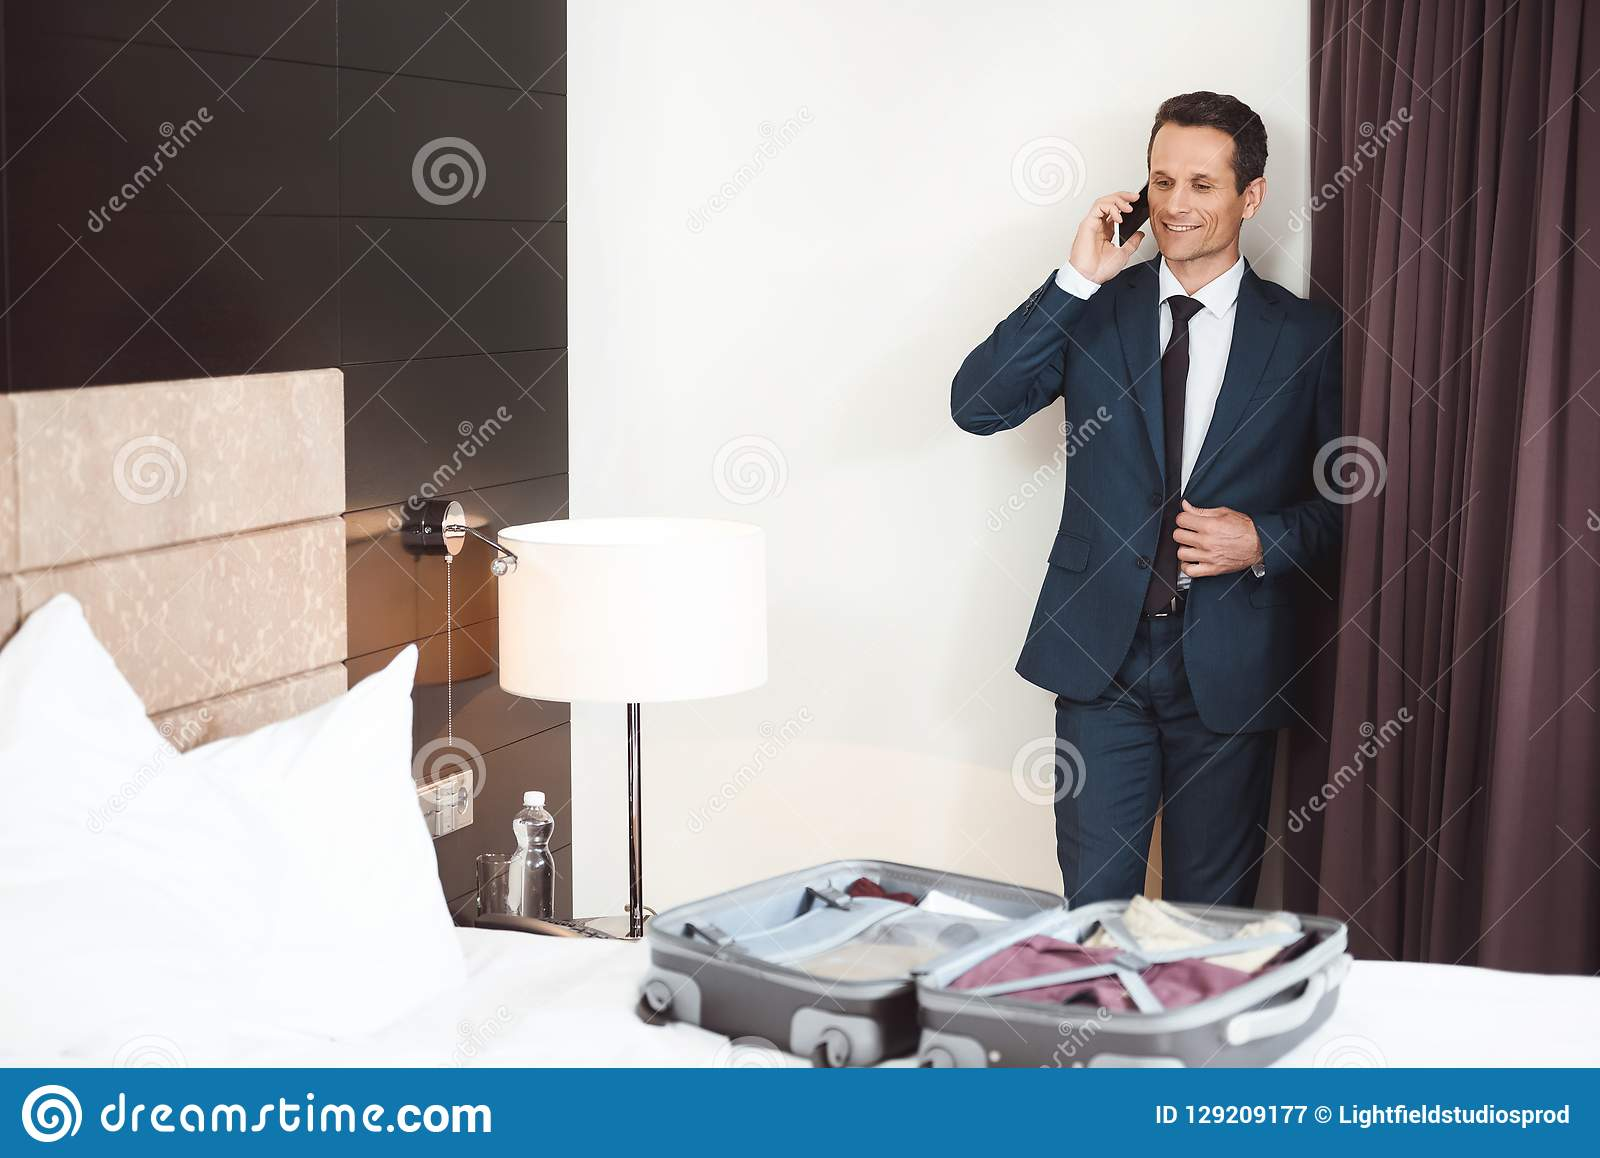phone: (1116, 180, 1152, 253)
talk: (1073, 158, 1225, 289)
